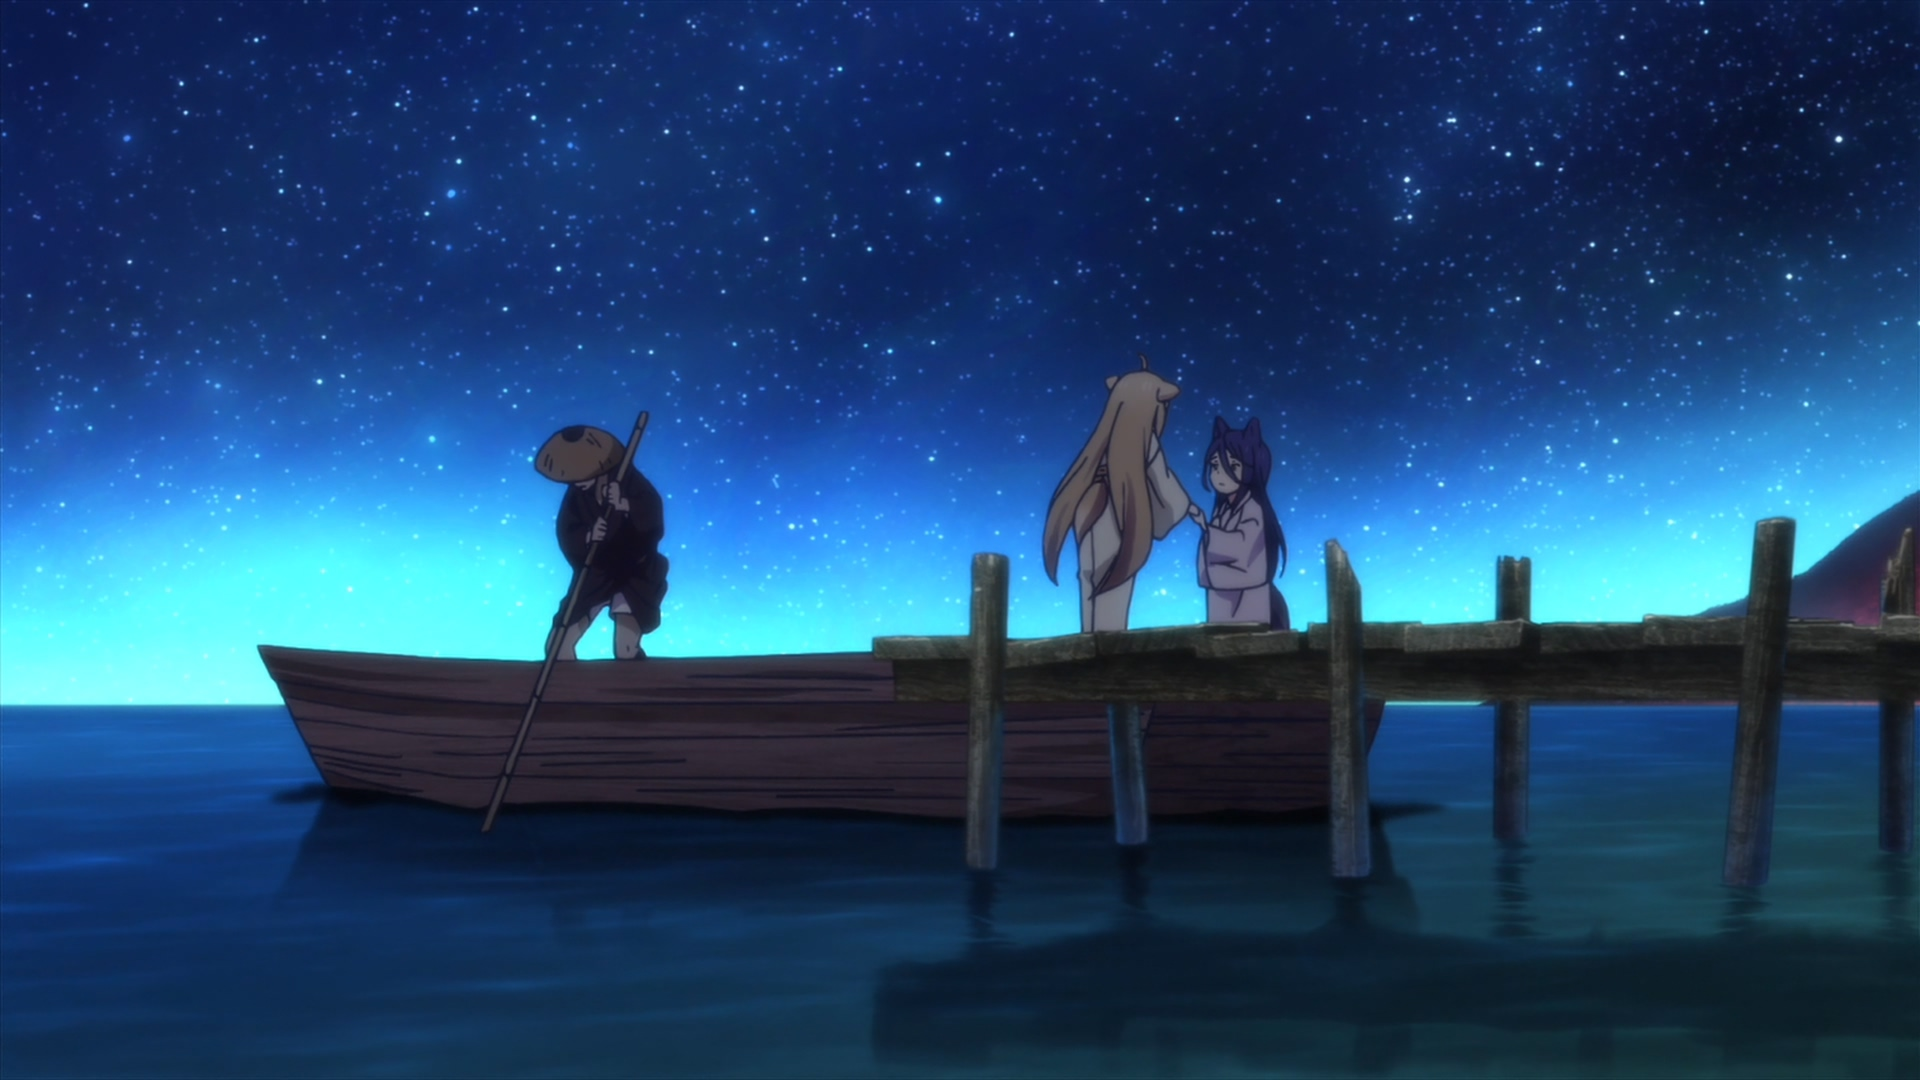其他: (534, 425, 673, 661)
柚: (1040, 355, 1199, 633)
皋: (1197, 415, 1292, 629)
